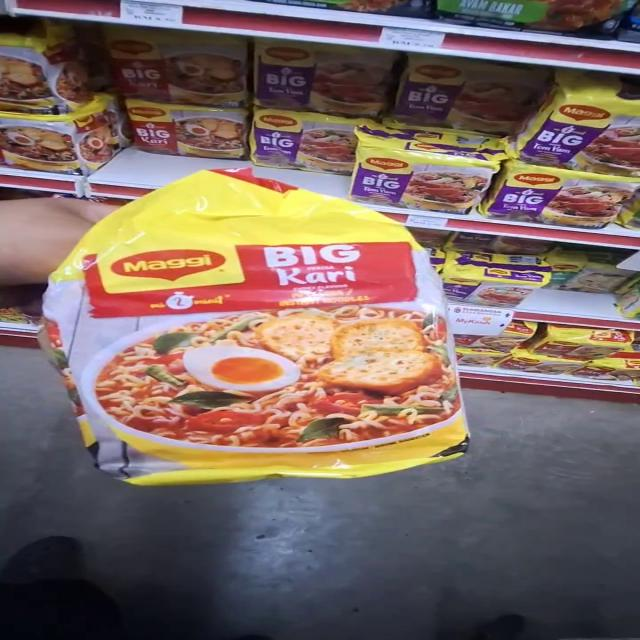Maggi: (77, 166, 493, 488), (0, 36, 116, 171), (511, 165, 628, 233), (133, 102, 249, 162), (524, 332, 640, 391), (265, 116, 359, 169)
